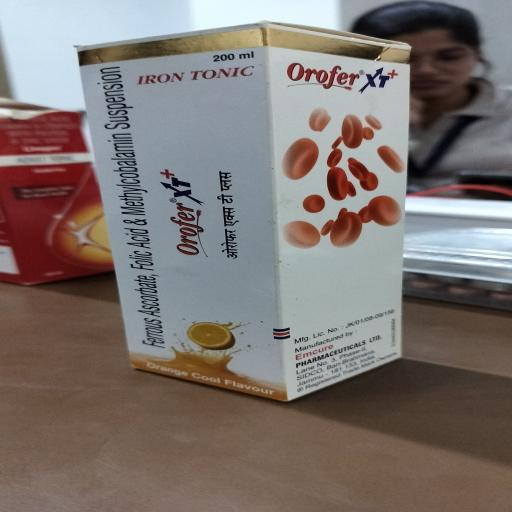iron-tonic: (124, 60, 400, 97), (158, 166, 248, 262)
syrup: (76, 21, 409, 398)
